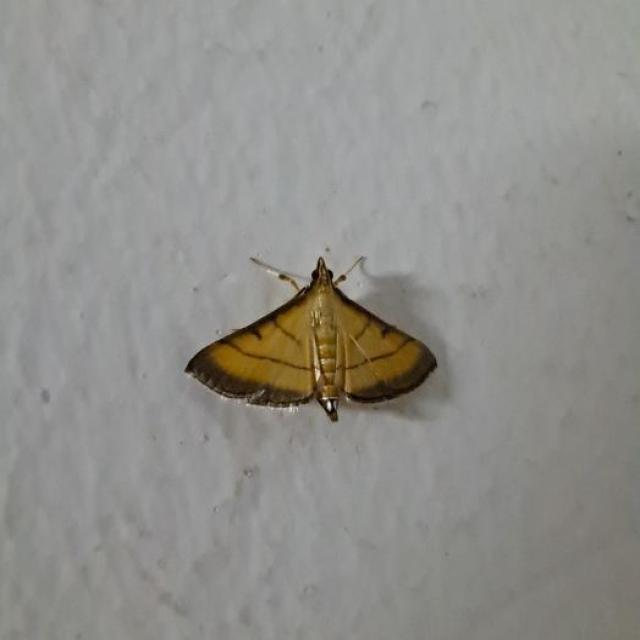rice leaf roller -penggulung daun padi-: (182, 250, 438, 423)
